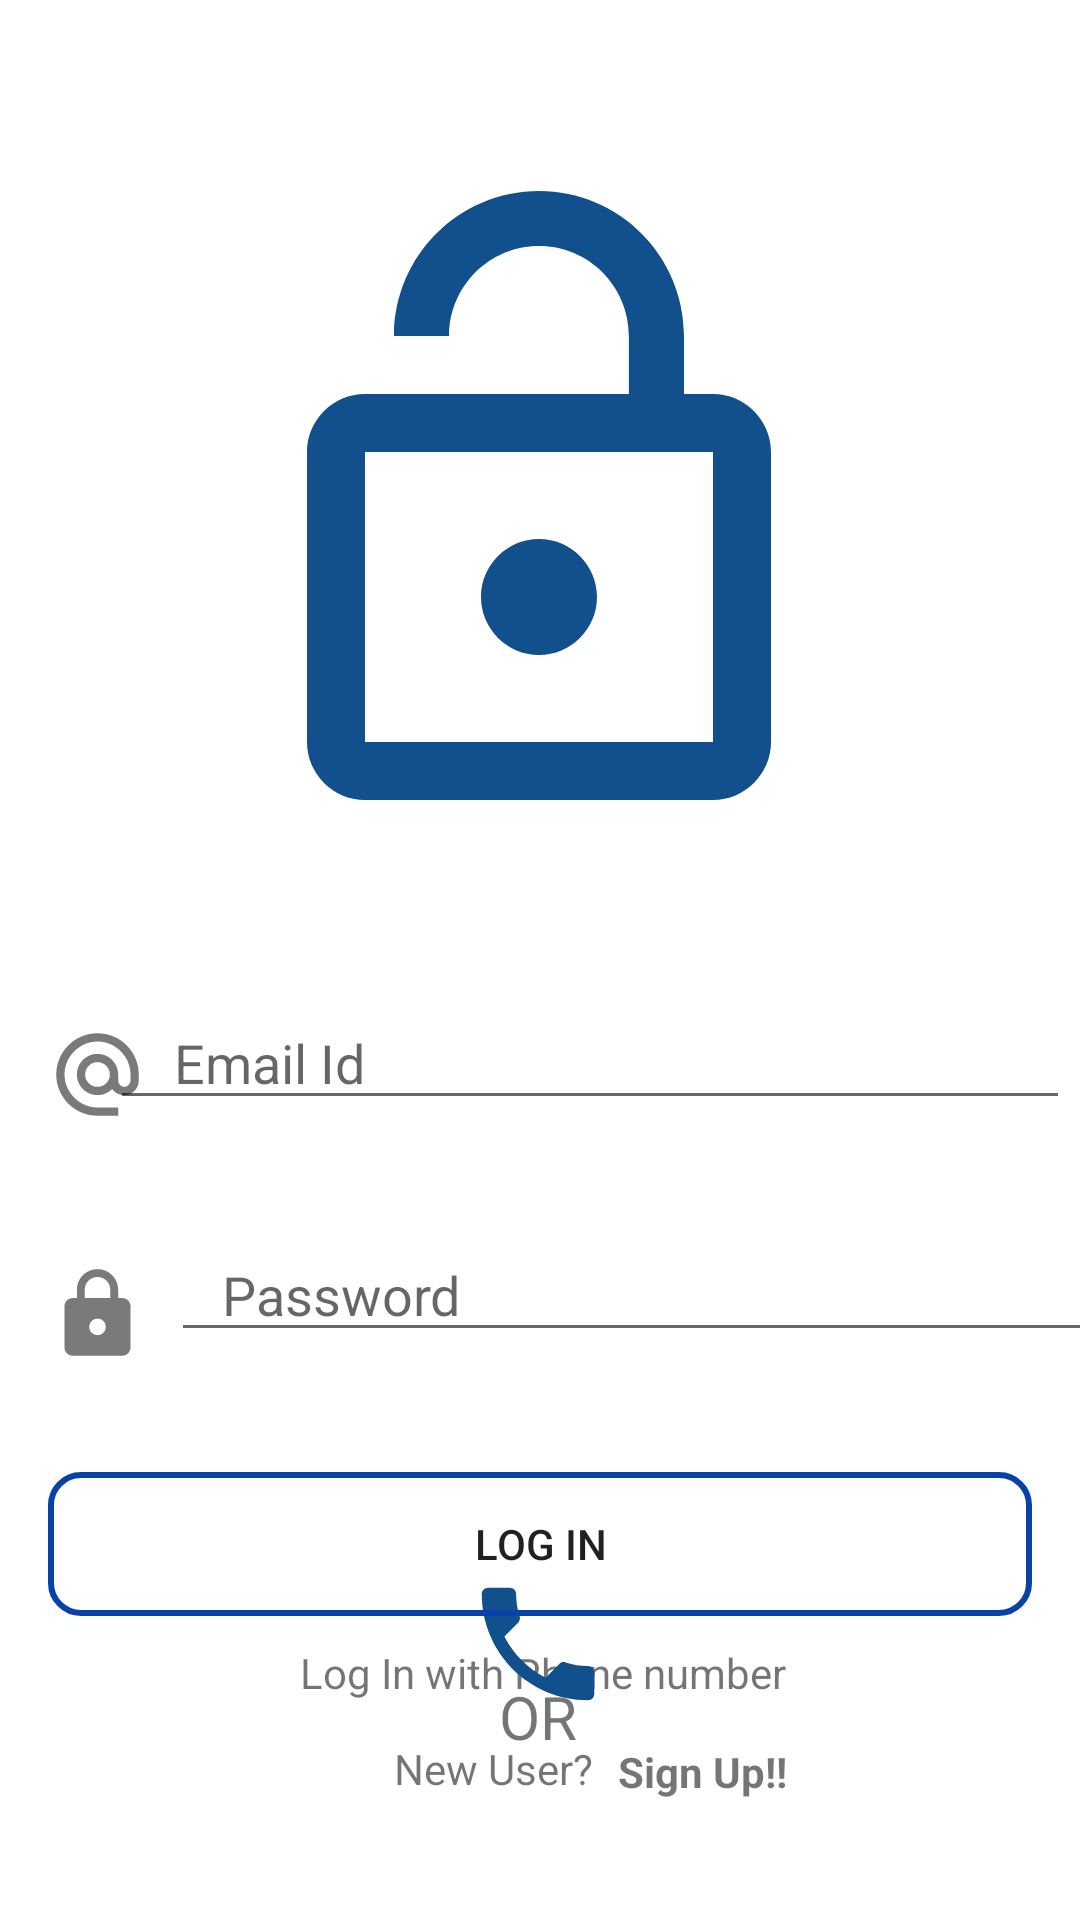

Where icons sit on this 1080*1920 app screen, as (x1, y1, x2, y2):
alternate email: (56, 1033, 147, 1116)
local phone: (463, 1560, 613, 1728)
lock: (64, 1269, 131, 1356)
